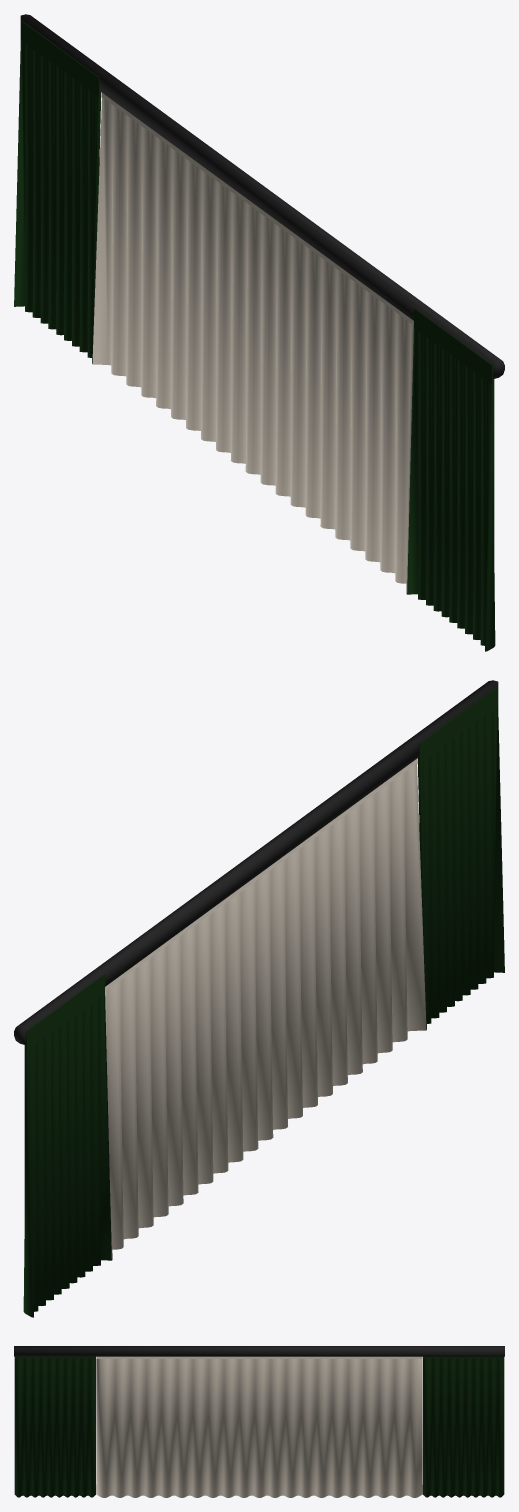
File: Curtain_1.fbx
3 views of the same model, one above another, from view 1: azimuth 30°, elevation 25°; view 2: azimuth 150°, elevation 25°; view 3: azimuth 270°, elevation 25° (orthographic). The views are drawn at different scales.
Parts seen in each view (by area): view 1: Plane.001, Plane, Cube; view 2: Plane.001, Plane, Cube; view 3: Plane.001, Plane, Cube.
Boxes of the visible parts, x1,y1,x2,y2 form: Plane.001: [92, 93, 413, 594]; Plane: [14, 20, 495, 651]; Cube: [20, 14, 504, 378]; Plane.001: [105, 759, 426, 1260]; Plane: [23, 686, 504, 1317]; Cube: [14, 680, 498, 1044]; Plane.001: [96, 1356, 422, 1497]; Plane: [14, 1356, 504, 1497]; Cube: [14, 1346, 504, 1356].
Bounding box in the file's own units: 16.65 × 239 × 709.
